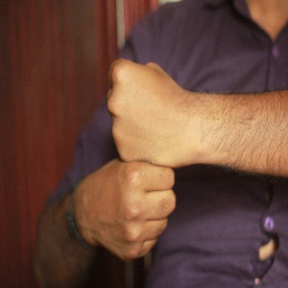G: (76, 52, 186, 259)
